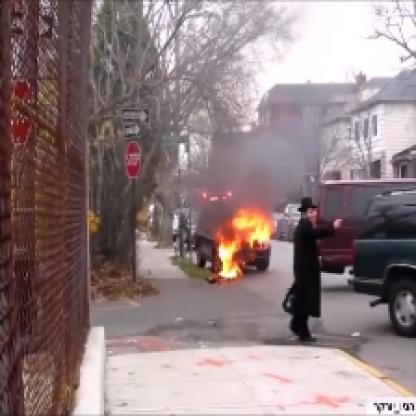Fire: (203, 188, 271, 286)
